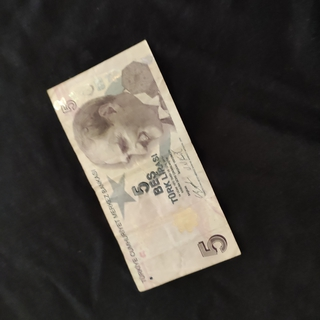5TLFront: (46, 39, 241, 292)
